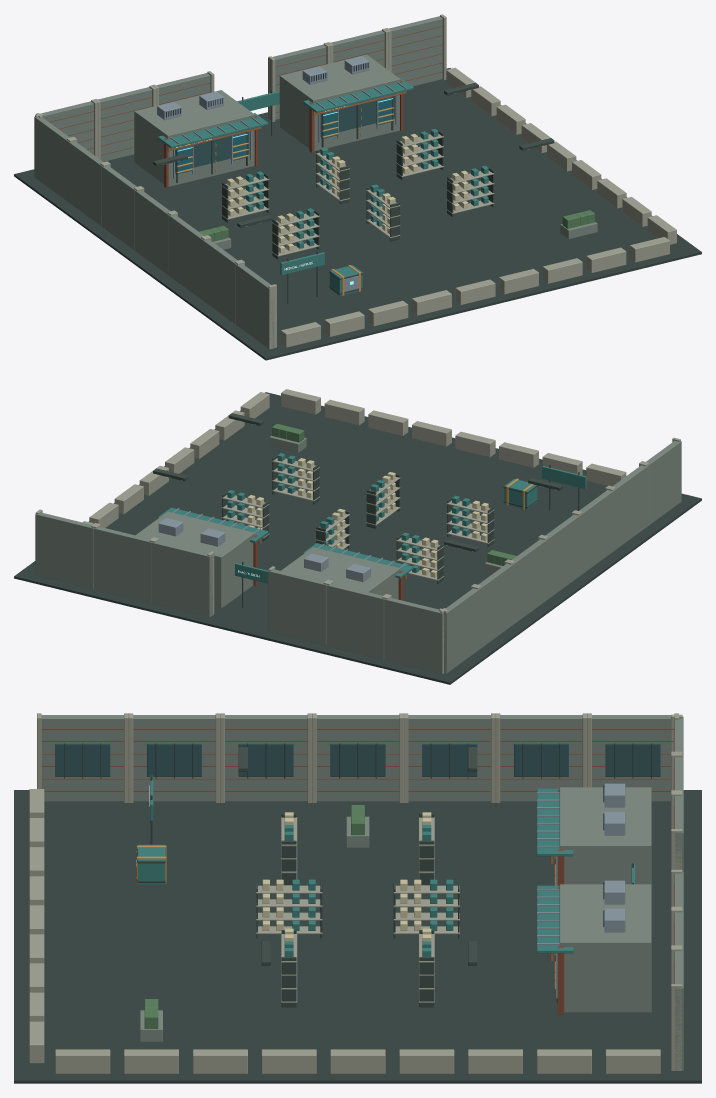
Rendered from chapter_shop.glb.
The picture shows the model from 3 angles, top to bottom: view 1: azimuth 30°, elevation 25°; view 2: azimuth 150°, elevation 25°; view 3: azimuth 270°, elevation 25°; orthographic projection. The views are drawn at different scales.
Parts seen in each view (by area): view 1: chapter_shop; view 2: chapter_shop; view 3: chapter_shop.
Part boxes in pixels (x1,y1,x2,y2): chapter_shop: (14,14,701,360); chapter_shop: (14,389,701,684); chapter_shop: (14,713,701,1083).
Bounding box in the file's own units: 30 × 4.24 × 30.
